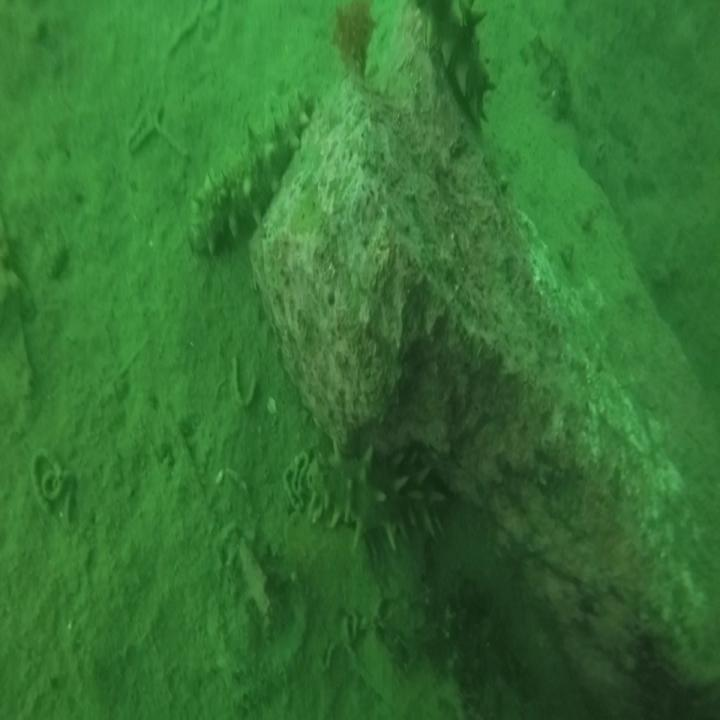holothurian: (184, 88, 311, 255), (302, 442, 447, 549), (412, 0, 494, 128)
